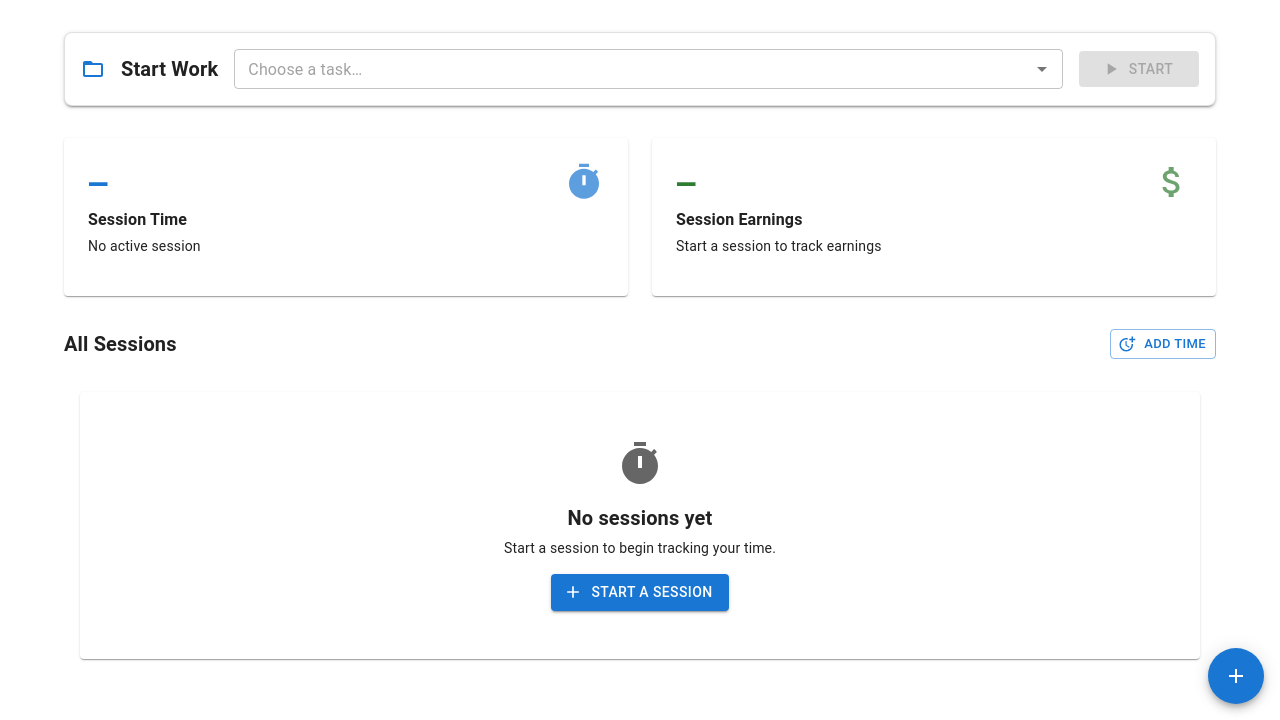
it: SessionDashboard › Starting work › opens Add Time from the All Sessions header
Click the button "Add time": [1163, 344] box left=1110, top=329, right=1216, bottom=359
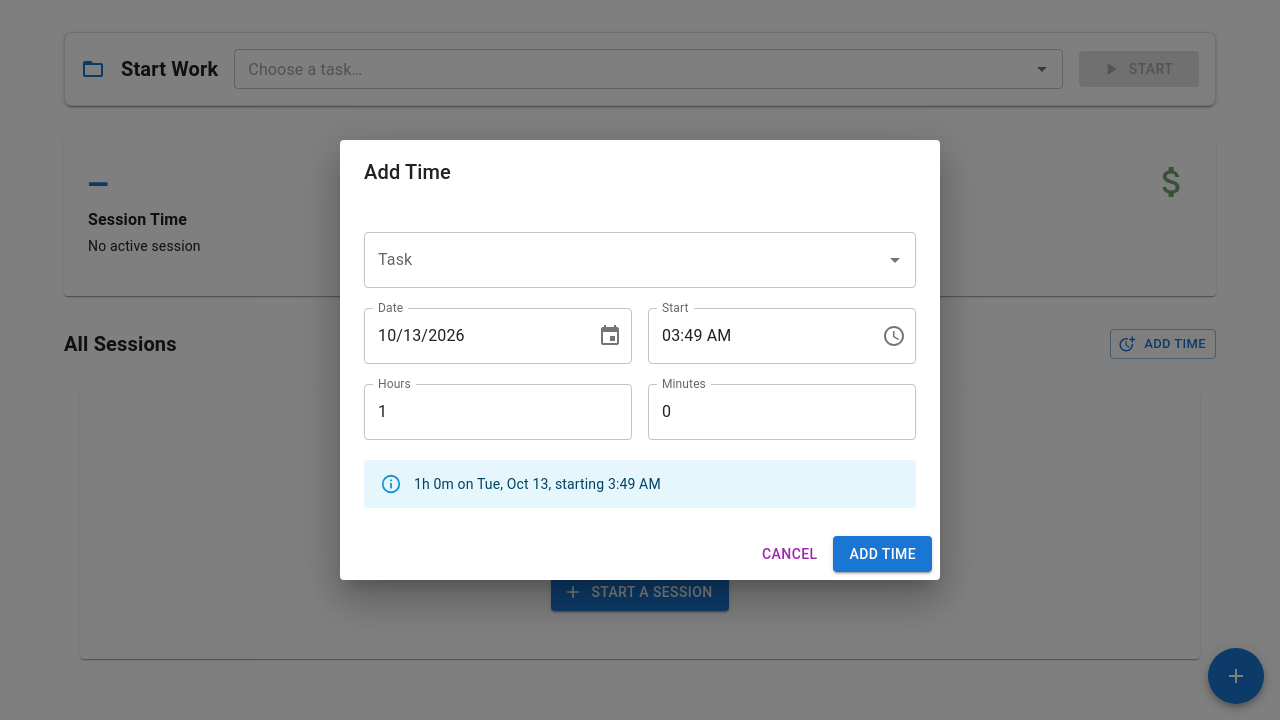
Result: the heading "Add Time" is shown at left=364, top=160, right=451, bottom=184
